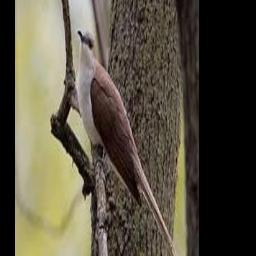Cuckoo: (77, 29, 183, 256)
